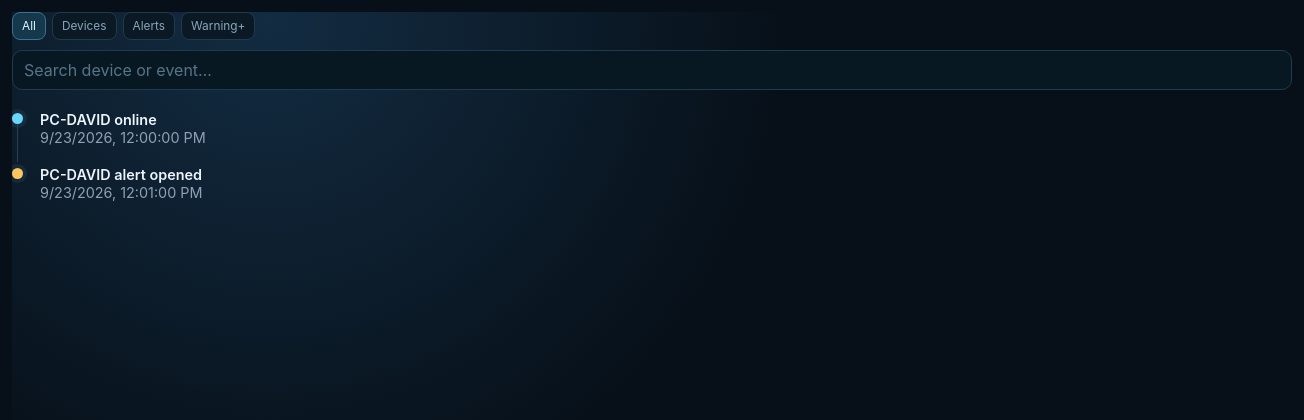
Test: EventTimeline › searches by device and event attributes
Type "cpu" into the search field named "Search timeline" at [652, 70], box [12,50,1292,90]
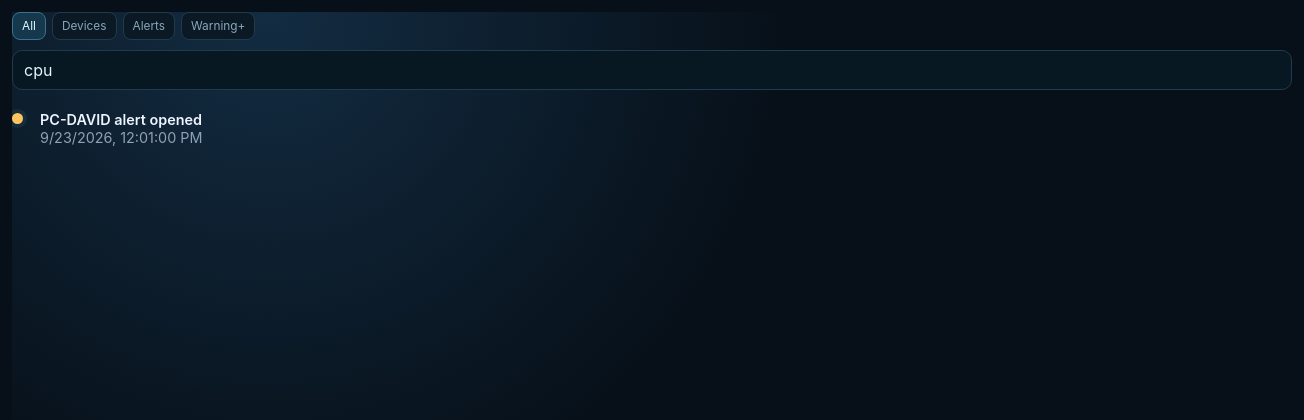
Check: the text "PC-DAVID alert opened" is shown, box [40,111,202,128]
Check: the text "PC-DAVID online" is gone
